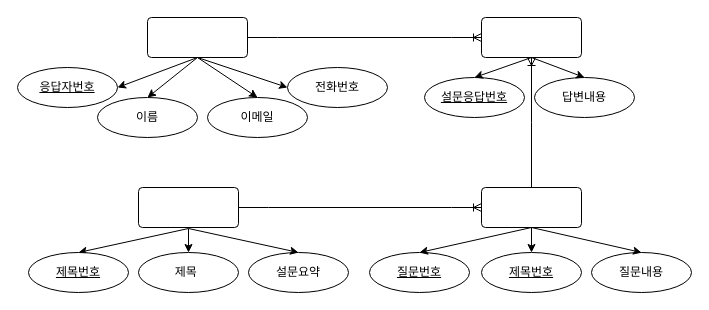
Some shapes in this 709 by 310 pixel diagram are drawn without their labels. The centre of each missing label's shape, as x and y in pixels:
설문응답: point 531,37
설문응답자: point 197,37
설문제목: point 188,207
질문: point 531,207
